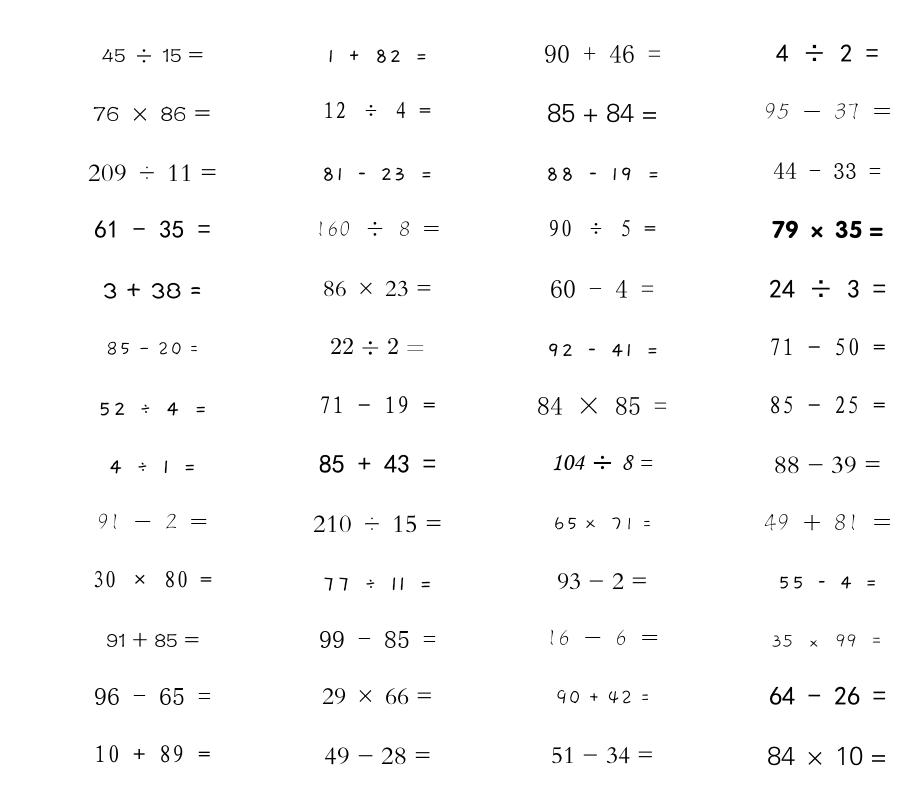MQ: (767, 746, 887, 766), (537, 397, 667, 415), (88, 164, 217, 182), (313, 515, 442, 533), (764, 513, 891, 531), (769, 279, 886, 298), (319, 454, 436, 473), (769, 686, 886, 705), (547, 103, 658, 123), (92, 570, 212, 588), (764, 103, 891, 120), (772, 220, 883, 239), (544, 45, 661, 63), (94, 220, 211, 238), (769, 338, 886, 356), (319, 396, 436, 414), (769, 396, 886, 414), (94, 745, 211, 763), (315, 221, 440, 237), (319, 631, 436, 648), (94, 688, 211, 705), (323, 101, 431, 119), (548, 219, 656, 237), (774, 456, 881, 474), (324, 747, 431, 765), (546, 629, 659, 646), (97, 513, 208, 530), (322, 688, 433, 705), (550, 280, 654, 298), (776, 44, 879, 62), (323, 280, 432, 297), (773, 162, 881, 179), (93, 106, 211, 121), (551, 747, 654, 764), (551, 454, 653, 471), (330, 337, 425, 355), (102, 282, 202, 299), (545, 167, 660, 181), (546, 343, 659, 357), (321, 167, 433, 181), (771, 634, 883, 648), (97, 402, 208, 416), (322, 577, 433, 591), (557, 573, 648, 590), (555, 689, 650, 705), (102, 48, 203, 63), (106, 632, 199, 648), (327, 49, 428, 63), (106, 341, 199, 356), (553, 517, 652, 531), (777, 576, 878, 589), (108, 460, 197, 474)
